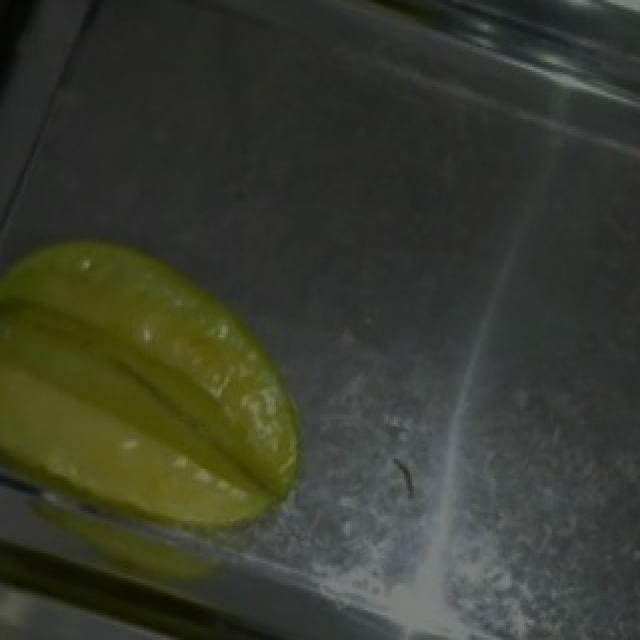fruit: (4, 201, 366, 613)
